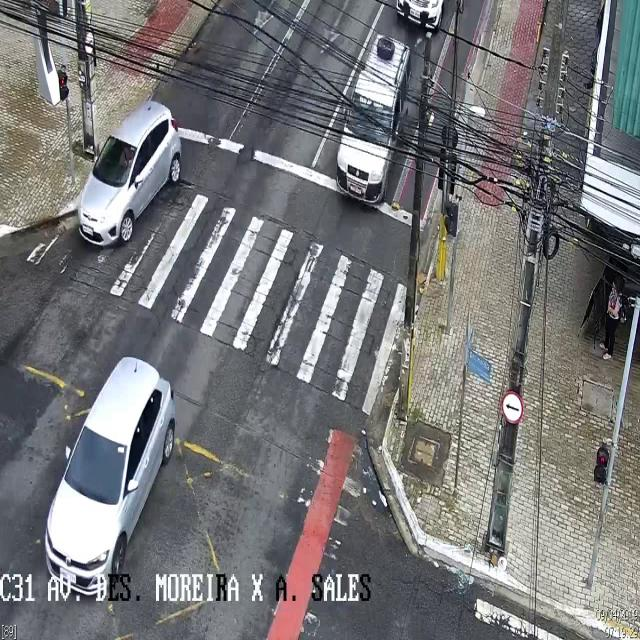Car: (44, 356, 176, 594), (78, 100, 182, 242), (336, 33, 410, 203)
